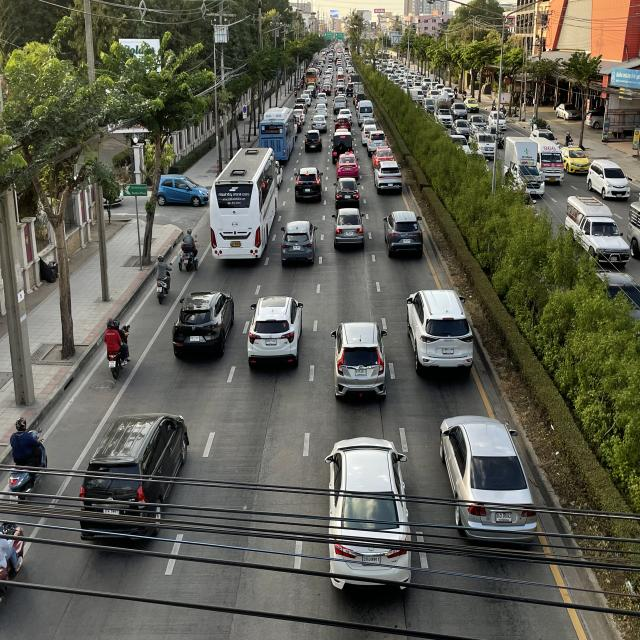bike: (6, 404, 50, 509), (100, 303, 135, 385), (149, 248, 173, 313), (178, 217, 204, 272)
bus: (209, 144, 280, 265)
